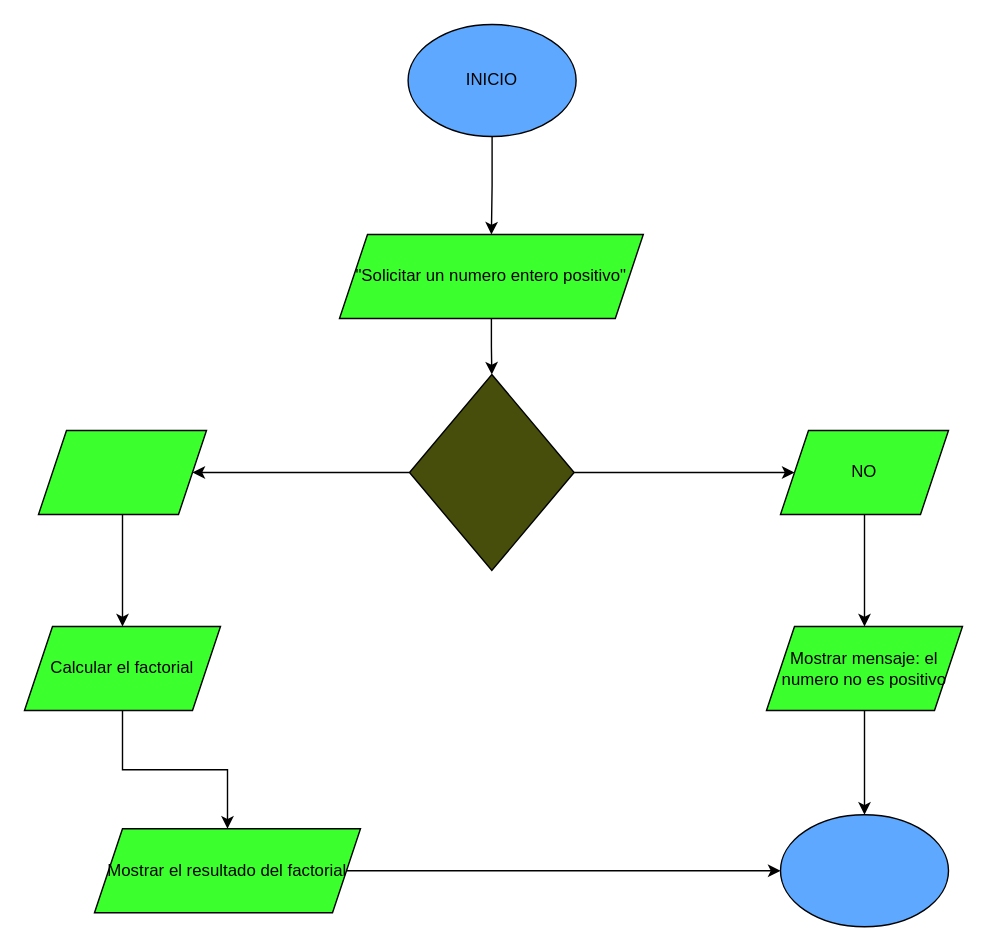
Some shapes in this 987 by 952 pixel diagram are drawn without their labels. The box of each missing label's shape, as (x1, y1, x2, y2) in pixels:
FIN: (779, 813, 948, 927)
SI: (37, 429, 206, 514)
¿El numero es positivo?: (408, 373, 574, 570)
